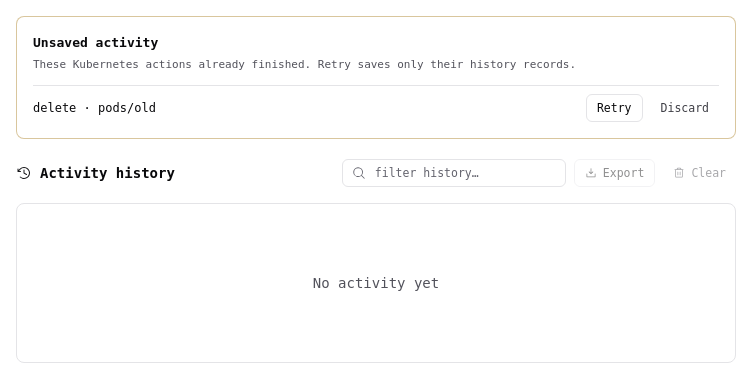
Test: LightshipHistoryView unsaved activity › allows discarding a failed record without a write
What coordinates should you click on to do the following:
click the button "Discard"
I would click on:
 (685, 108)
Its box is [650,94,719,122].
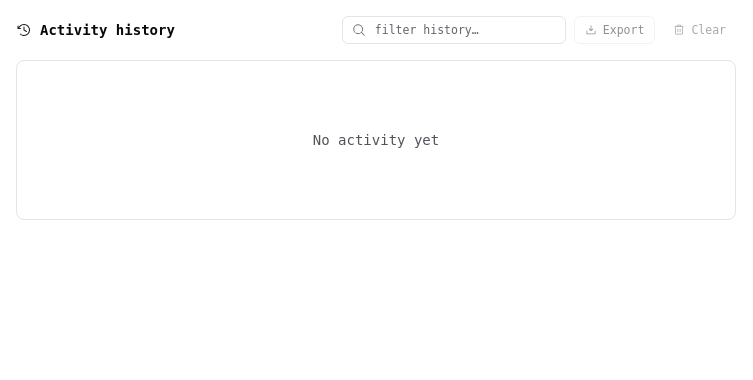
Check: the heading "Unsaved activity" is gone
